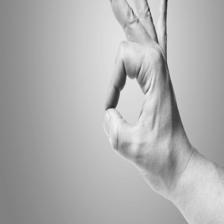Ladder: (45, 25, 175, 213)
